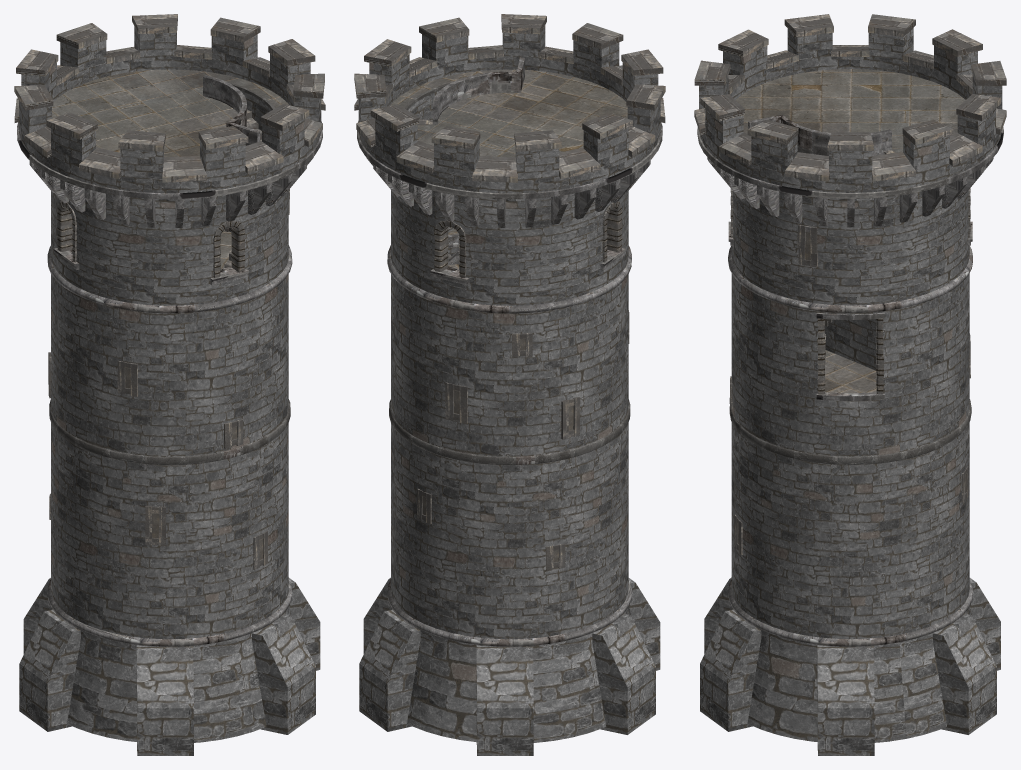
File: MC_Castle_Tower_B_21m.fbx
3 views of the same model, side by side, from view 1: azimuth 30°, elevation 25°; view 2: azimuth 150°, elevation 25°; view 3: azimuth 270°, elevation 25° (orthographic).
Parts seen in each view (by area): view 1: MC_Castle_Tower_B_21m_LOD0; view 2: MC_Castle_Tower_B_21m_LOD0; view 3: MC_Castle_Tower_B_21m_LOD0.
Boxes of the visible parts, x1=… form: MC_Castle_Tower_B_21m_LOD0: x1=14, y1=14, x2=325, y2=755; MC_Castle_Tower_B_21m_LOD0: x1=354, y1=14, x2=665, y2=755; MC_Castle_Tower_B_21m_LOD0: x1=694, y1=14, x2=1006, y2=755.
Size of what is drawn, in the model's own units: 1042 by 2267 by 1050.
